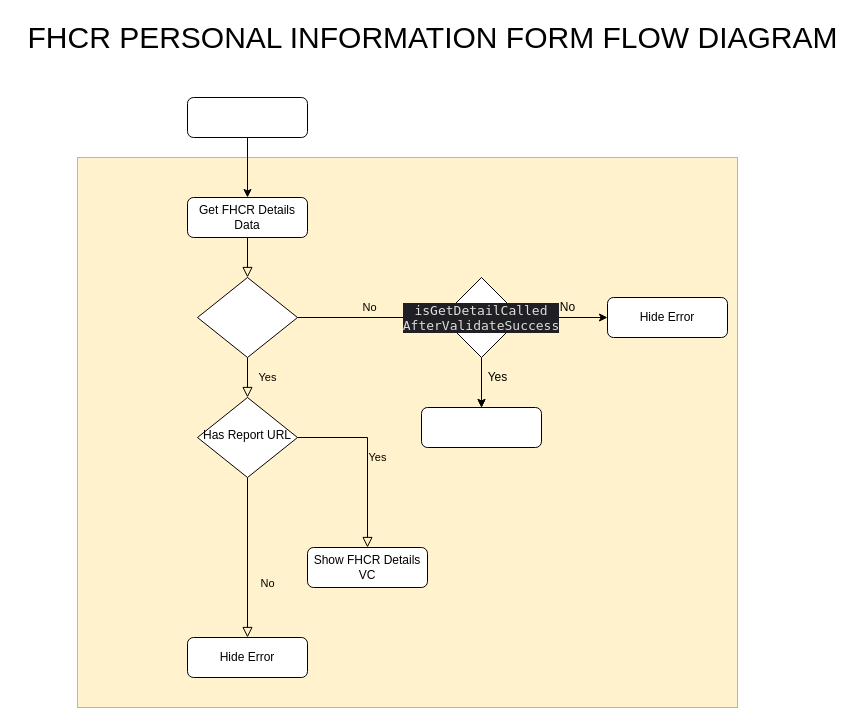
Some shapes in this 864 by 725 pixel diagram are drawn without their labels. The shapes that lost their labels are listed below. From the top down, each one's centre as x and y in pixels, then its label:
point 247,117: Open FHCR VC
point 247,317: Success
point 481,427: Show Error
